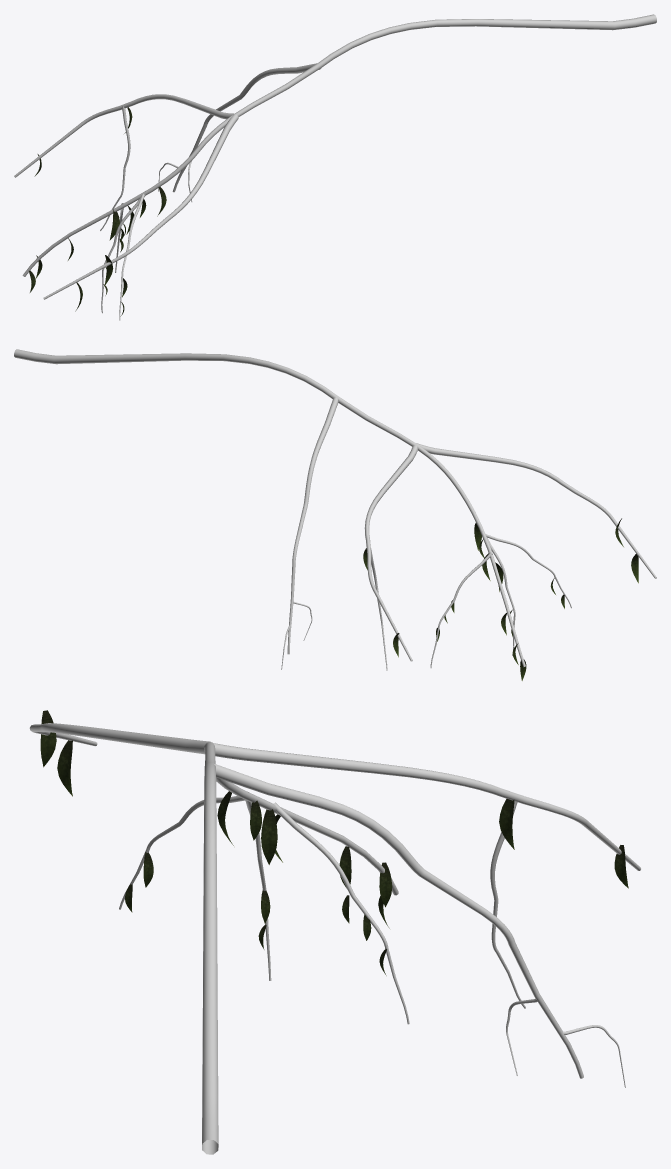
The model's file is AppleTree.fbx.
The picture shows the model from 3 angles, top to bottom: view 1: azimuth 30°, elevation 25°; view 2: azimuth 150°, elevation 25°; view 3: azimuth 270°, elevation 25°; orthographic projection. The views are drawn at different scales.
Visible parts, largest first — view 1: Trees; view 2: Trees; view 3: Trees, Leaf.
Part boxes in pixels (box(x1,y1,x2,y2)): Trees: box(14, 14, 656, 320); Trees: box(14, 349, 656, 670); Trees: box(29, 723, 640, 1154); Leaf: box(261, 809, 277, 864).
Bounding box in the file's own units: 1905 × 653 × 824.
